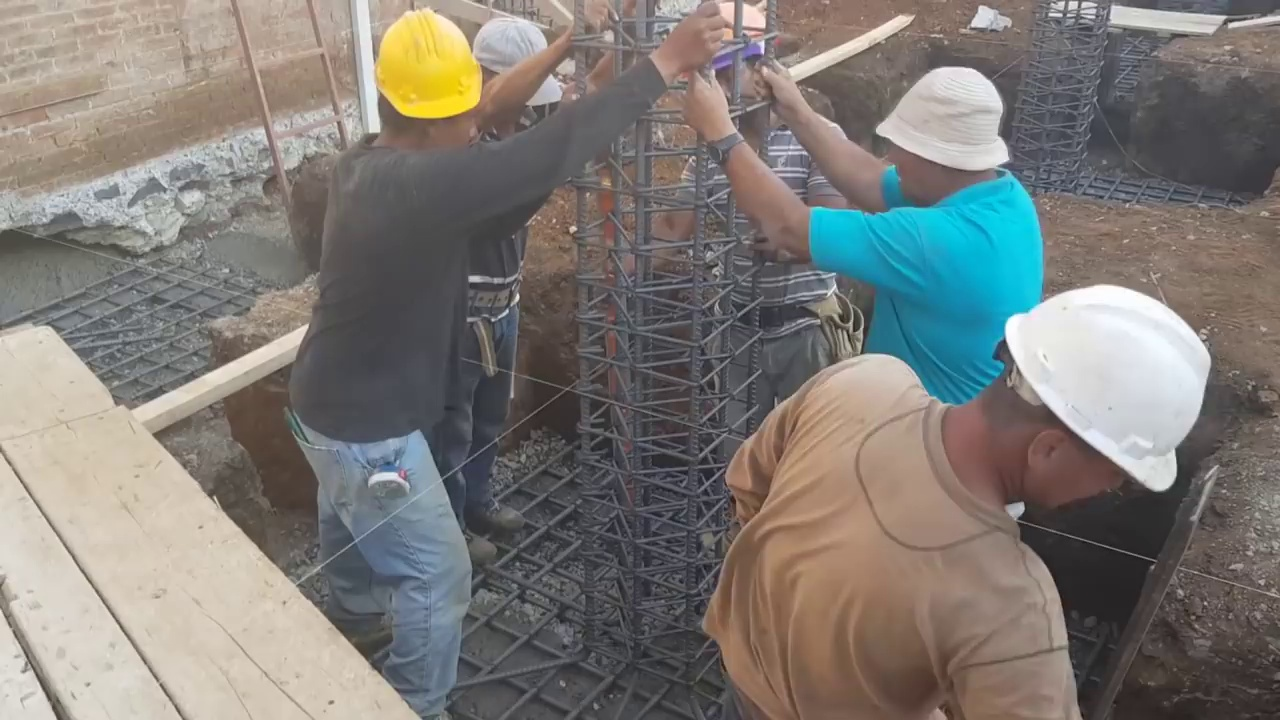helmet: (998, 292, 1230, 509), (373, 8, 486, 124), (706, 4, 775, 62)
helmet-off: (870, 62, 1008, 211), (468, 9, 557, 125)
helmet-on: (932, 276, 1232, 538), (361, 17, 487, 165), (692, 2, 778, 149)
person: (290, 12, 672, 683), (678, 284, 1231, 714), (692, 59, 1058, 408), (684, 10, 873, 449), (441, 6, 559, 578)
